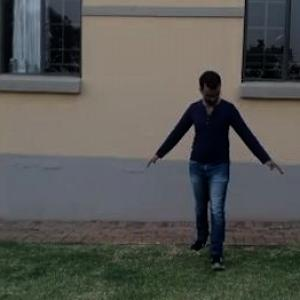land: (127, 48, 281, 277)
